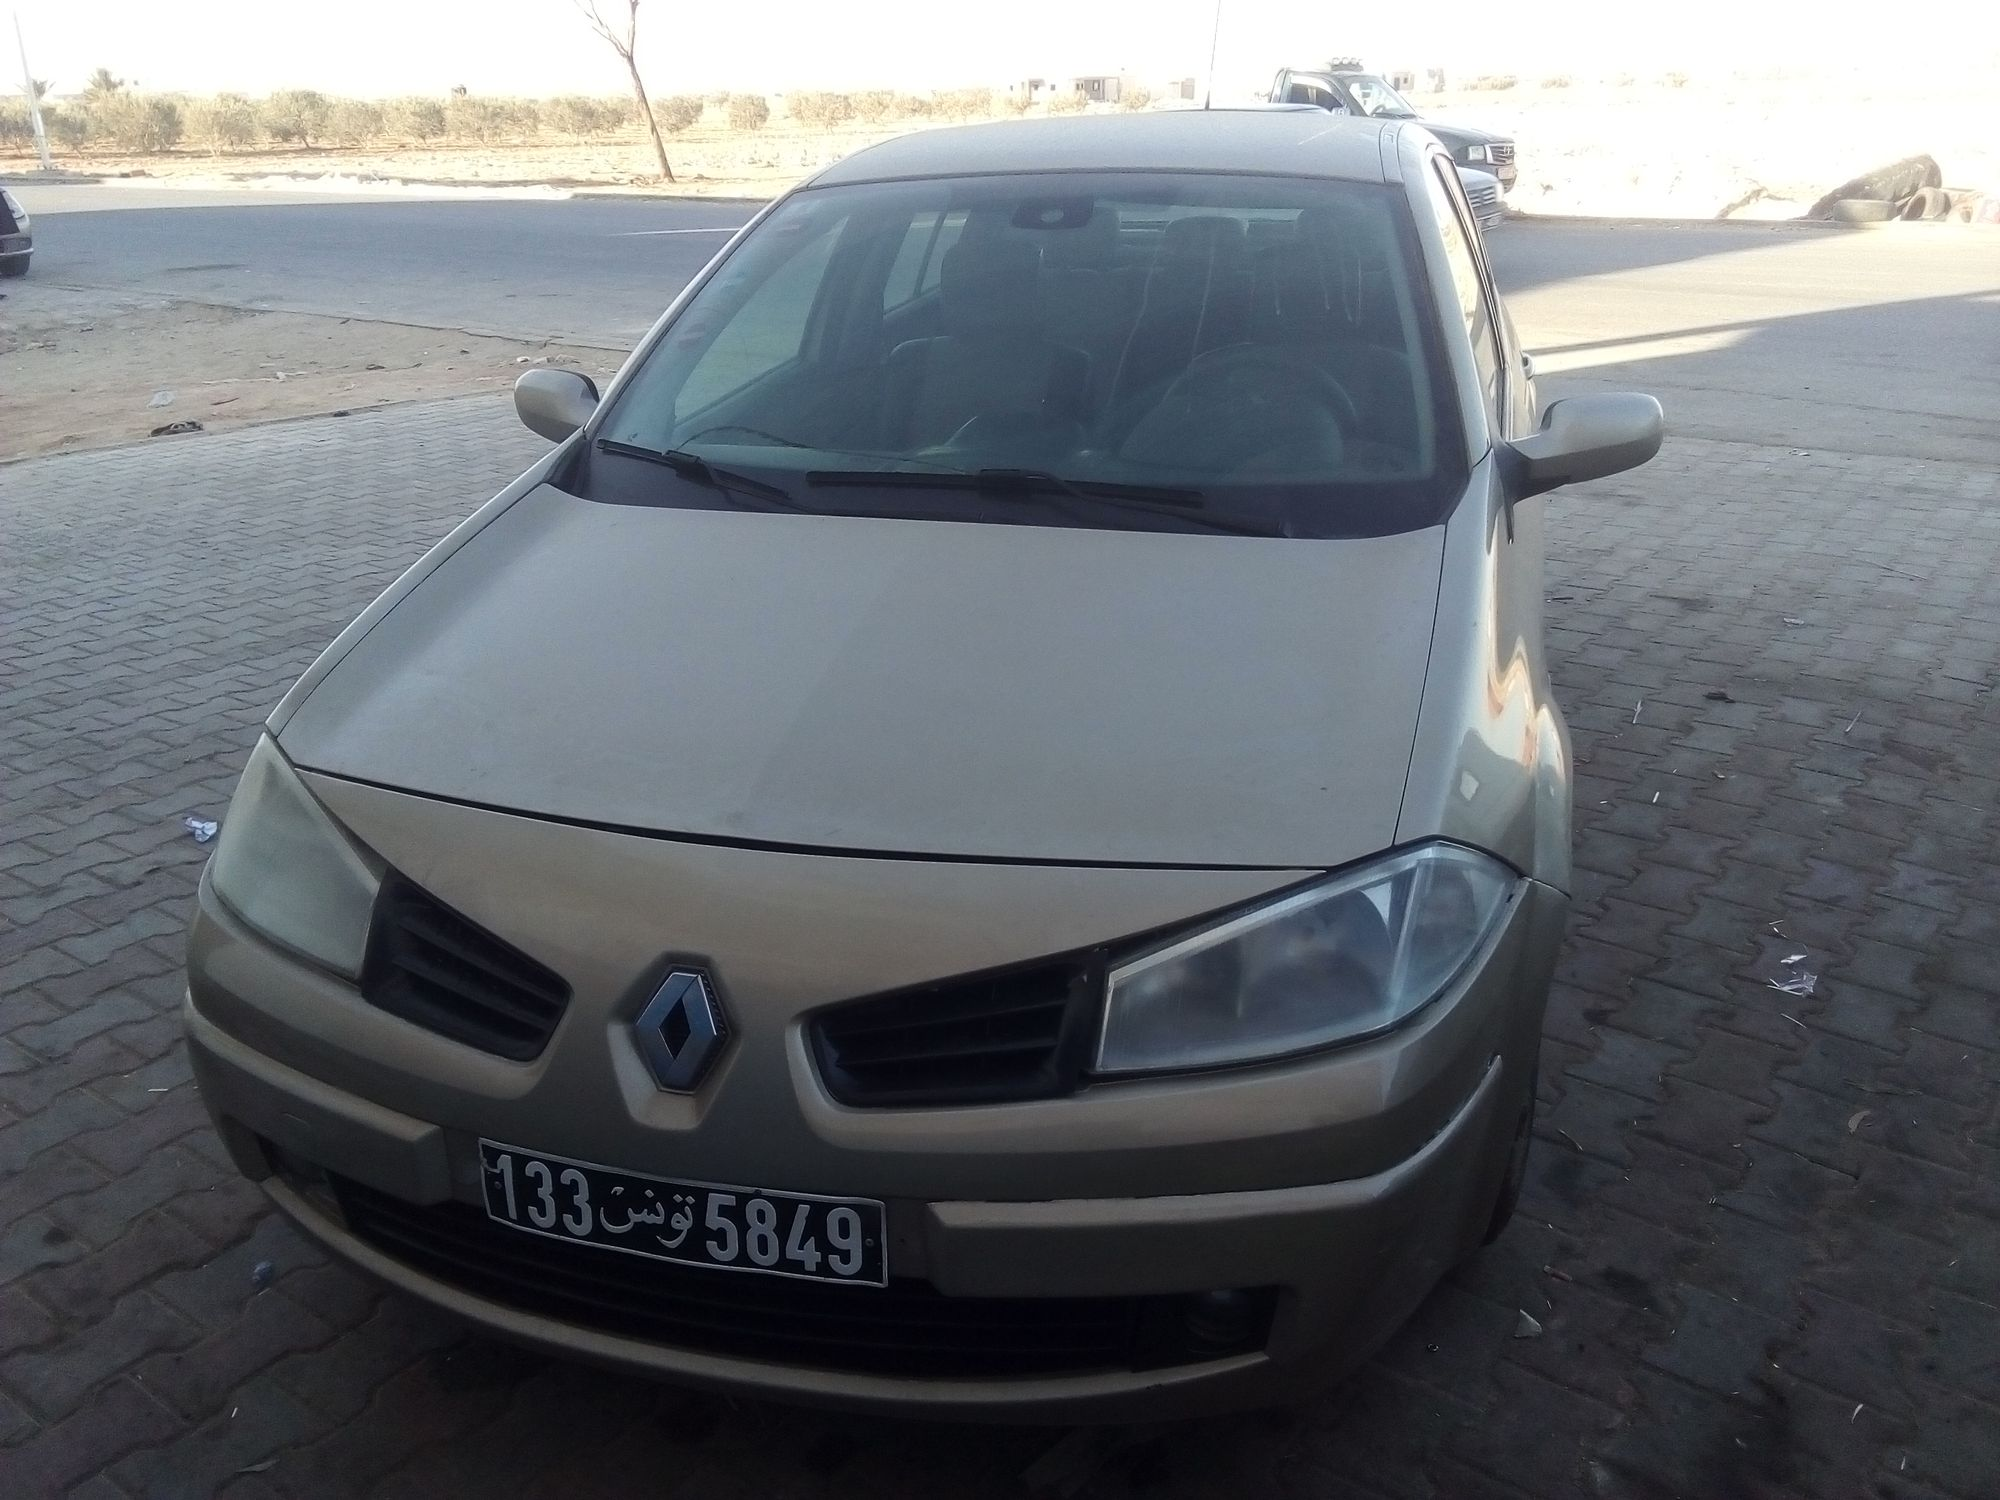LP: (473, 1130, 900, 1284)
